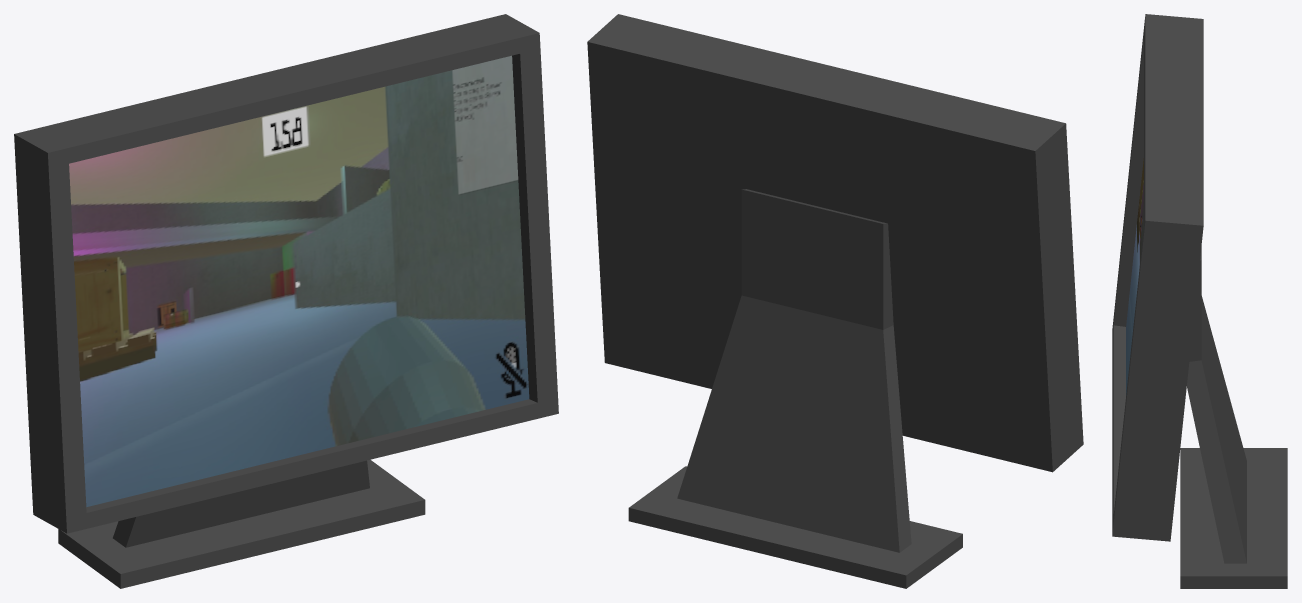
File: Pantalla_prefab.fbx
The picture shows the model from 3 angles, left to right: view 1: azimuth 30°, elevation 25°; view 2: azimuth 150°, elevation 25°; view 3: azimuth 270°, elevation 25°; orthographic projection. The views are drawn at different scales.
Parts seen in each view (by area): view 1: Cube; view 2: Cube; view 3: Cube.
Part boxes in pixels (x1,y1,x2,y2): Cube: [14, 14, 558, 588]; Cube: [587, 14, 1083, 588]; Cube: [1112, 14, 1287, 588].
Size of the model in its own units: 175 by 161 by 62.58.
Materials: 1 (1 with a texture image).
